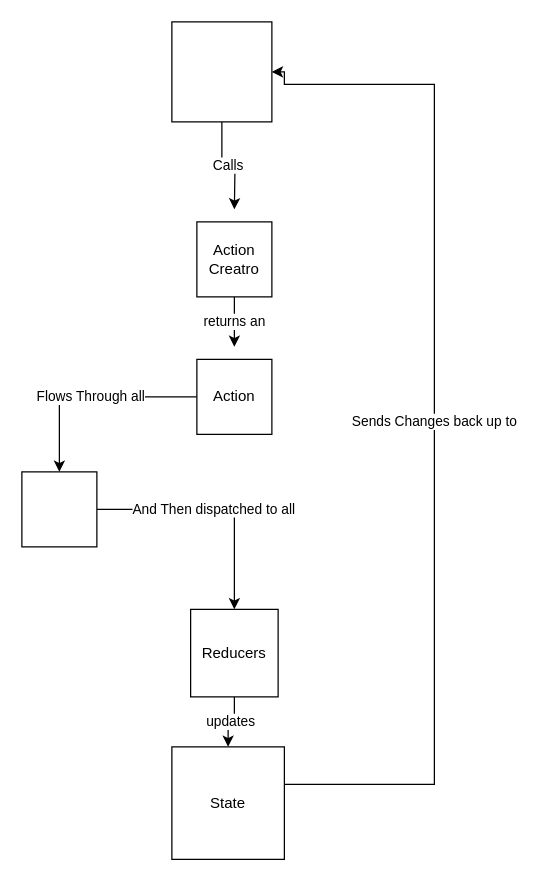
This 539x881 diagram has some shape labels left out. The centre of each missing label's shape, as x and y in pixels:
Component: point 221,71
Middleware: point 59,509
